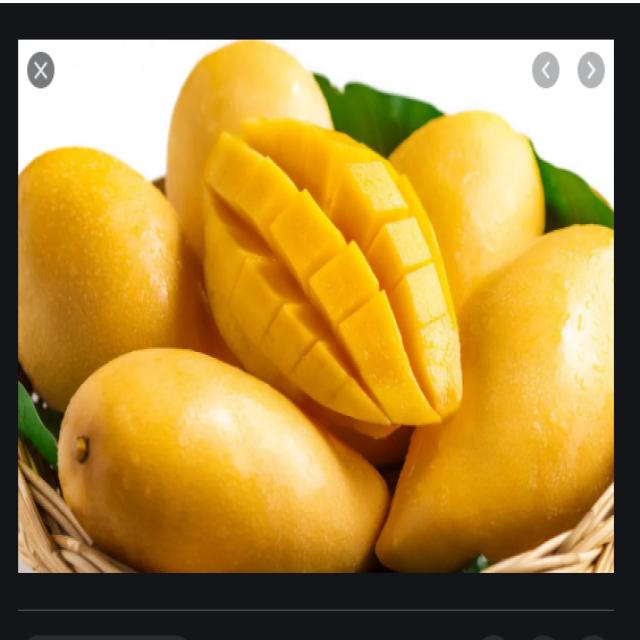mango: (340, 226, 613, 568), (45, 330, 397, 577), (212, 117, 476, 442), (20, 121, 235, 418), (389, 85, 546, 343), (177, 47, 334, 282), (432, 228, 450, 240)
